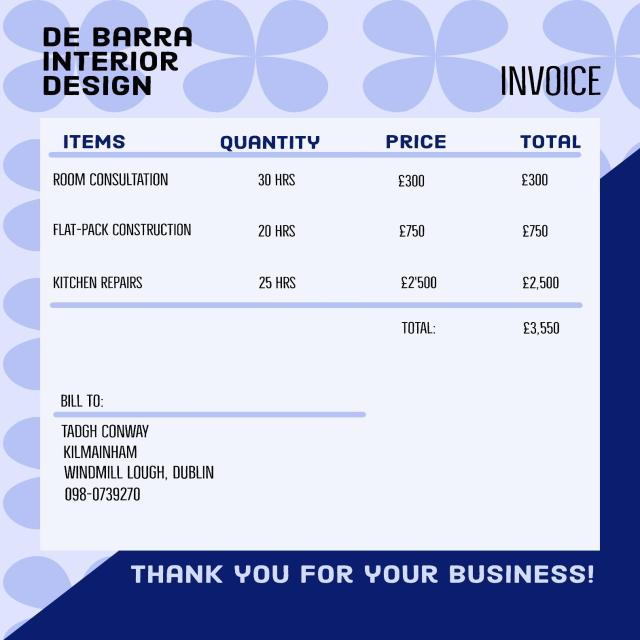paragraph: (54, 380, 232, 508), (126, 557, 602, 593), (31, 22, 202, 100), (493, 58, 611, 105), (391, 315, 580, 343)
table: (41, 116, 593, 347)
